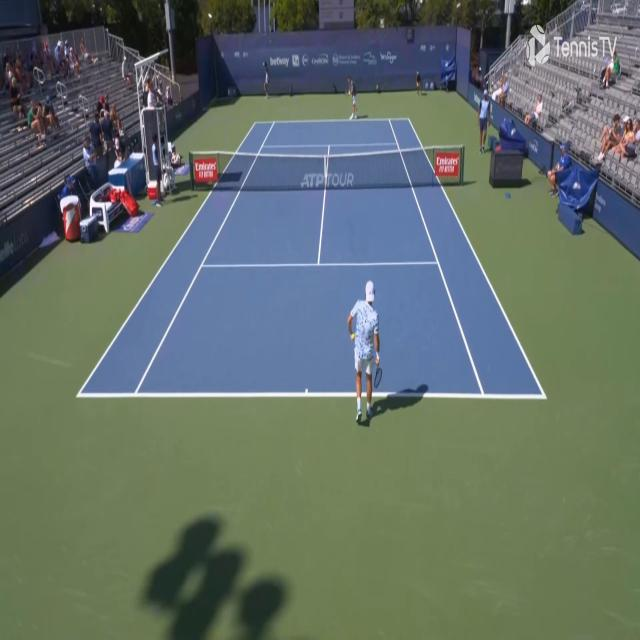tennis-player: (345, 277, 383, 426), (345, 75, 358, 122)
